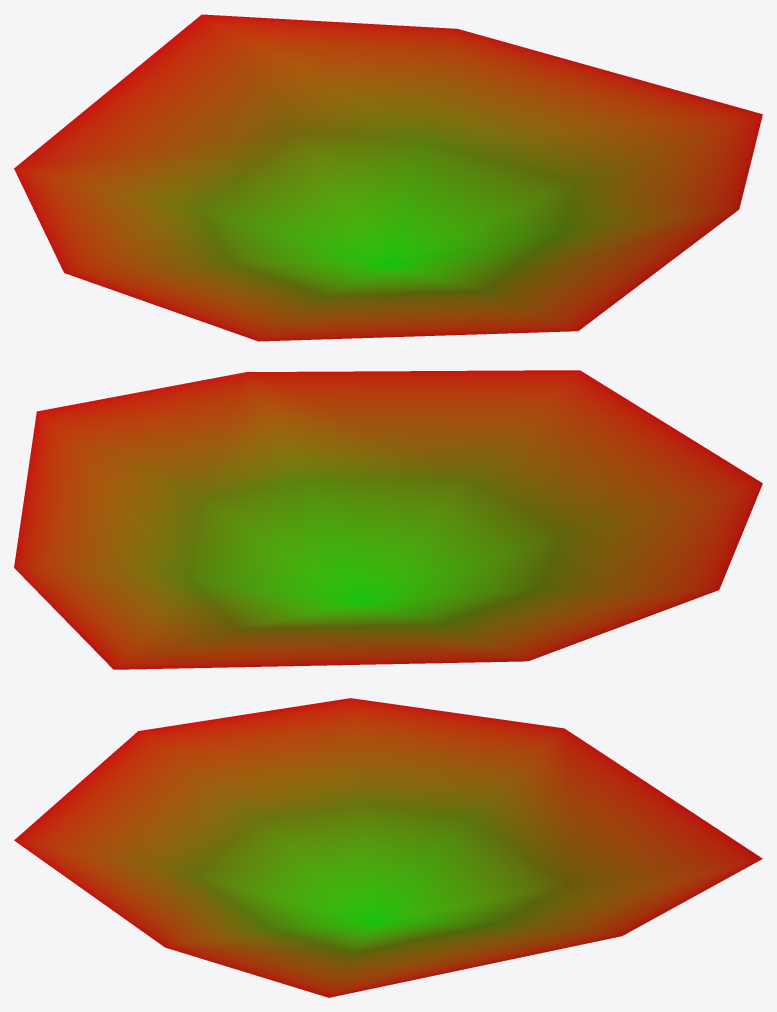
Rendered from Var29_LOD3.fbx.
The picture shows the model from 3 angles, top to bottom: view 1: azimuth 30°, elevation 25°; view 2: azimuth 150°, elevation 25°; view 3: azimuth 270°, elevation 25°; orthographic projection. The views are drawn at different scales.
Visible parts, largest first — view 1: _8zxo_Var29_LOD3; view 2: _8zxo_Var29_LOD3; view 3: _8zxo_Var29_LOD3.
Boxes of the visible parts, x1=… form: _8zxo_Var29_LOD3: x1=14, y1=14, x2=762, y2=341; _8zxo_Var29_LOD3: x1=14, y1=370, x2=762, y2=669; _8zxo_Var29_LOD3: x1=14, y1=698, x2=762, y2=997.
Bounding box in the file's own units: 15.67 × 1.86 × 16.55.
